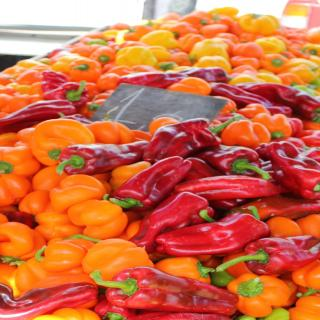Bell pepper: (0, 5, 320, 320), (230, 277, 305, 318)
